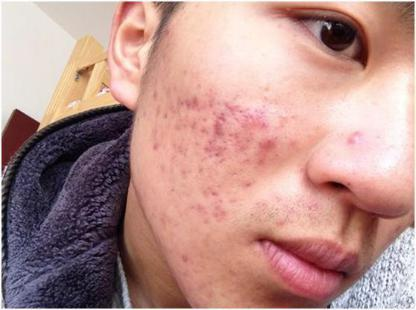Nodules: (345, 124, 371, 148), (208, 113, 231, 138), (256, 132, 282, 151)
Papules: (179, 90, 202, 107)
acne scar: (202, 182, 221, 199), (146, 137, 166, 151), (241, 175, 258, 189)
